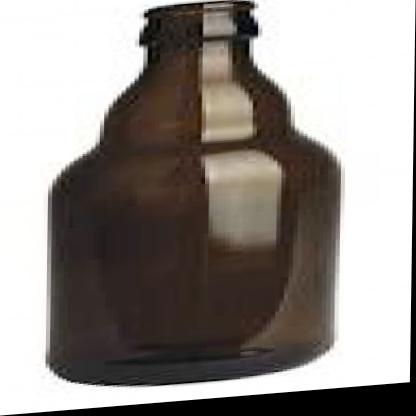trash: (49, 0, 339, 383)
